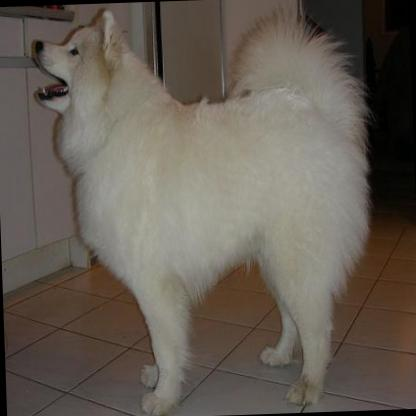Samoyed: (28, 0, 379, 416)
